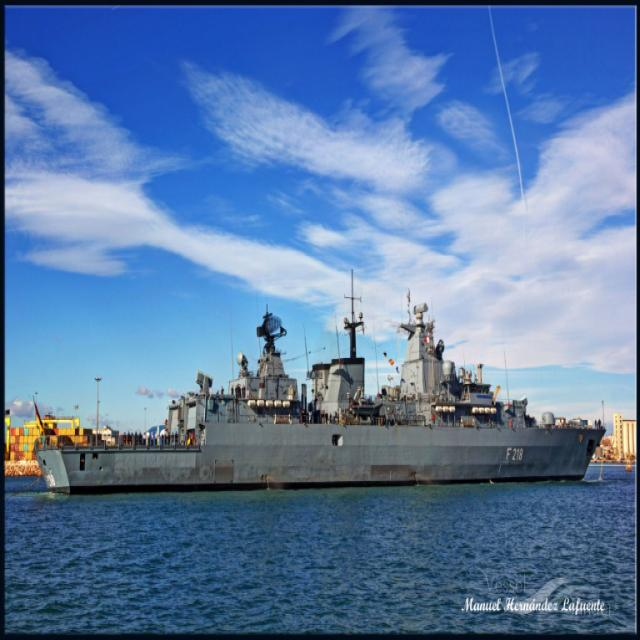Naval Ship: (35, 300, 607, 494)
